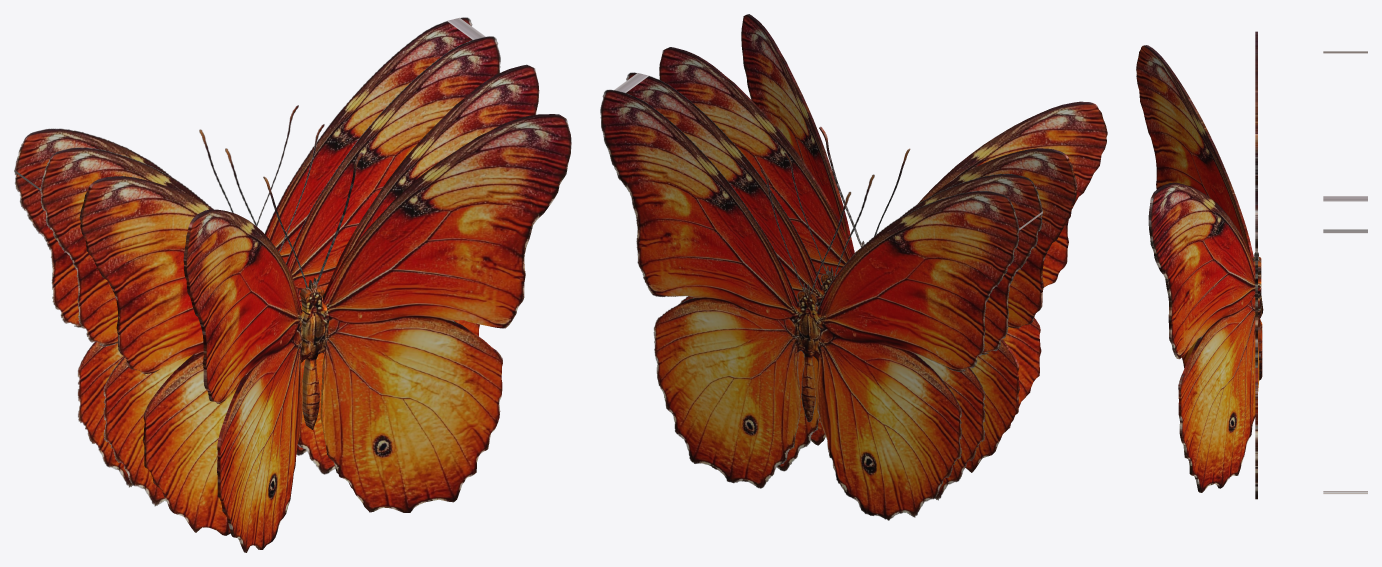
The model's file is butterfly.glb.
3 renders of one model, left to right at view 1: azimuth 30°, elevation 25°; view 2: azimuth 150°, elevation 25°; view 3: azimuth 270°, elevation 25°, orthographic. The views are drawn at different scales.
Parts seen in each view (by area): view 1: orange.004, orange.001, orange.002, orange.003; view 2: orange.001, orange.004, orange.002, orange.003; view 3: orange.004, orange.002, orange.001.
Part boxes in pixels (x1,y1,x2,y2): orange.004: [183, 114, 571, 552]; orange.001: [14, 17, 500, 506]; orange.002: [79, 64, 539, 535]; orange.003: [80, 67, 538, 533]; orange.001: [600, 72, 1042, 520]; orange.004: [741, 14, 1107, 422]; orange.002: [659, 47, 1077, 472]; orange.003: [659, 49, 1076, 469]; orange.004: [1136, 45, 1259, 492]; orange.002: [1252, 32, 1263, 499]; orange.001: [1323, 51, 1367, 493].
Bounding box in the file's own units: 2.24 × 1.86 × 1.13.
Materials: 1 (1 with a texture image).
